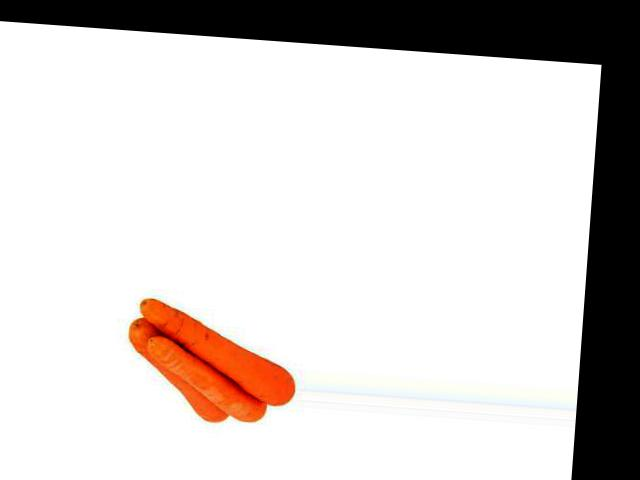carrot: (138, 332, 272, 424)
